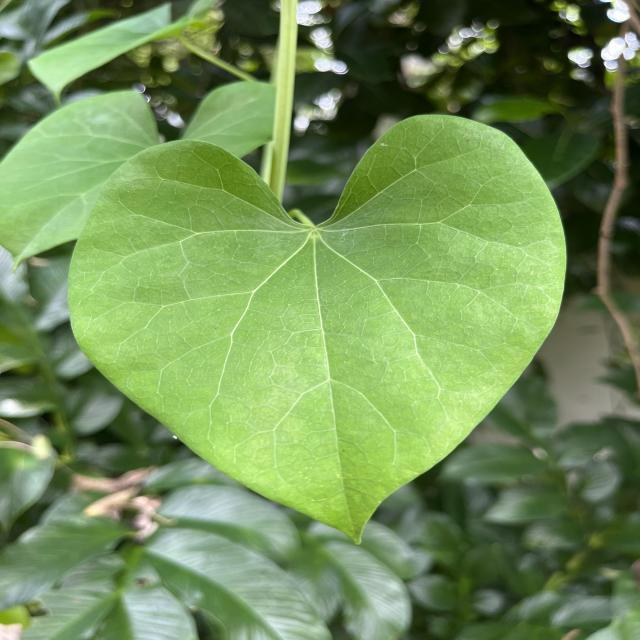Tinospora cordifolia: (61, 108, 578, 554)
